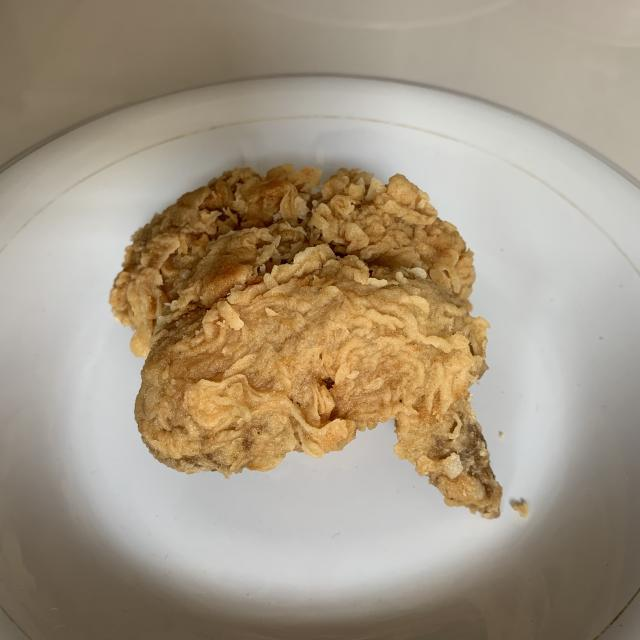Wet Waste: (111, 164, 498, 511)
